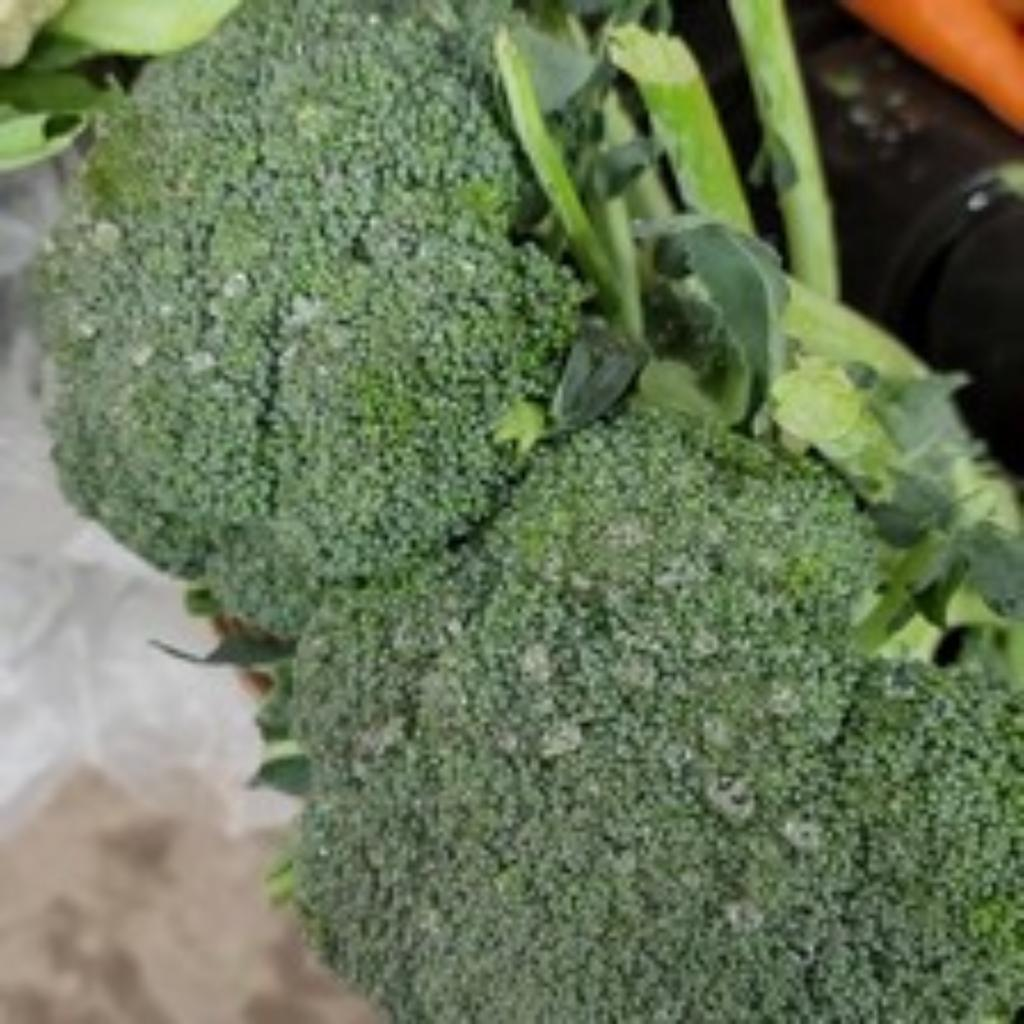Broccoli: (296, 412, 1024, 1024), (42, 4, 574, 631)
